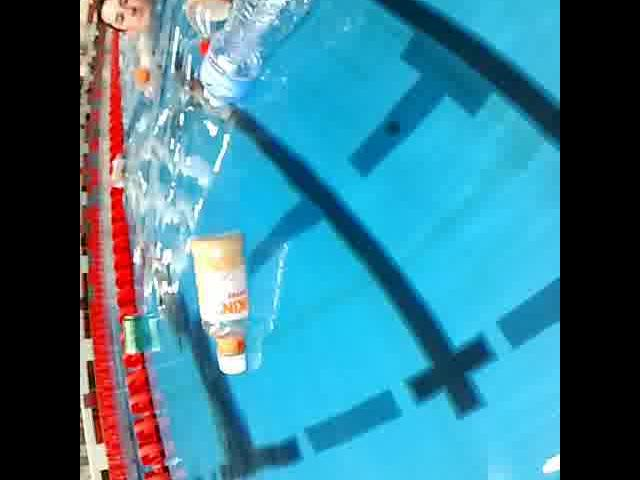Bottle: (199, 0, 323, 111), (190, 225, 258, 379), (184, 0, 234, 62)
Can: (118, 302, 144, 364)
